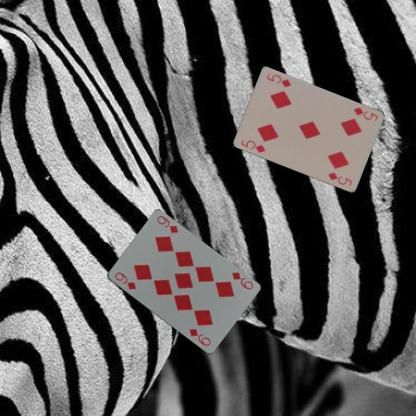5d: (351, 105, 379, 123), (239, 136, 267, 154)
9d: (112, 269, 137, 291), (229, 269, 254, 291)
